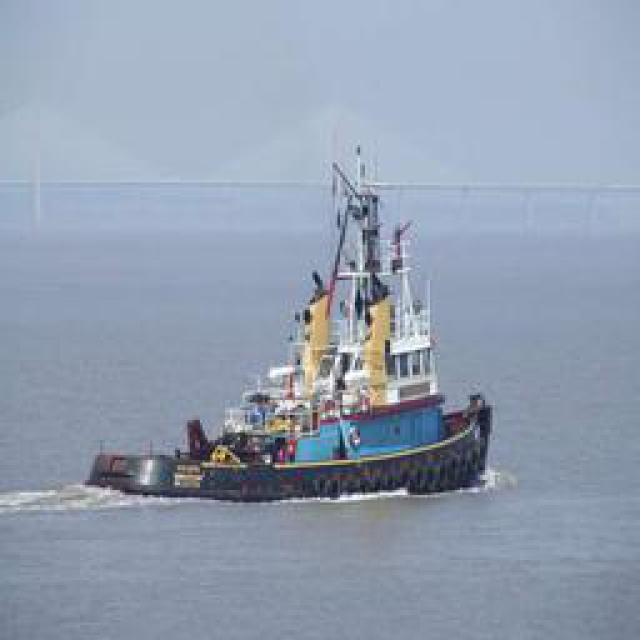Ship: (86, 133, 491, 509)
